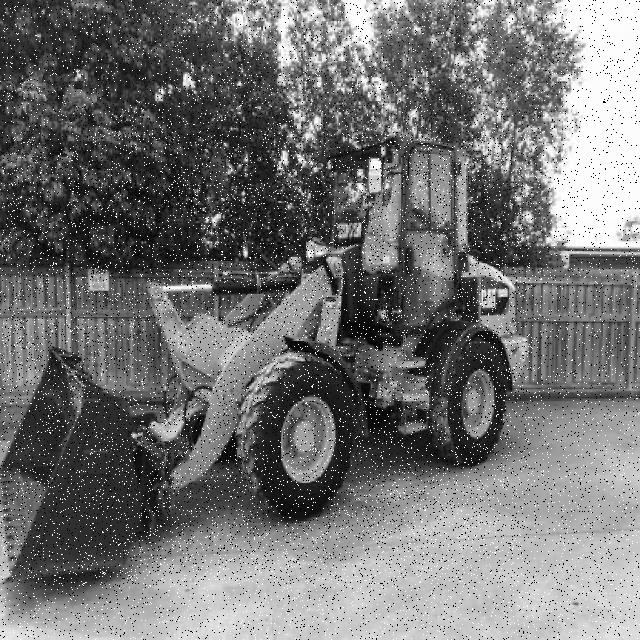Construction Equipment: (0, 131, 530, 584)
